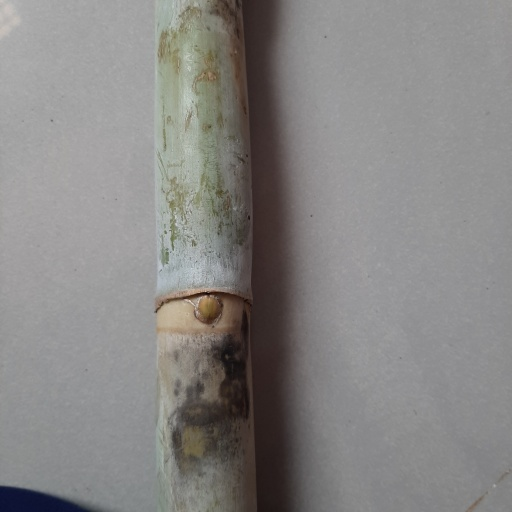Bud: (190, 294, 224, 328)
